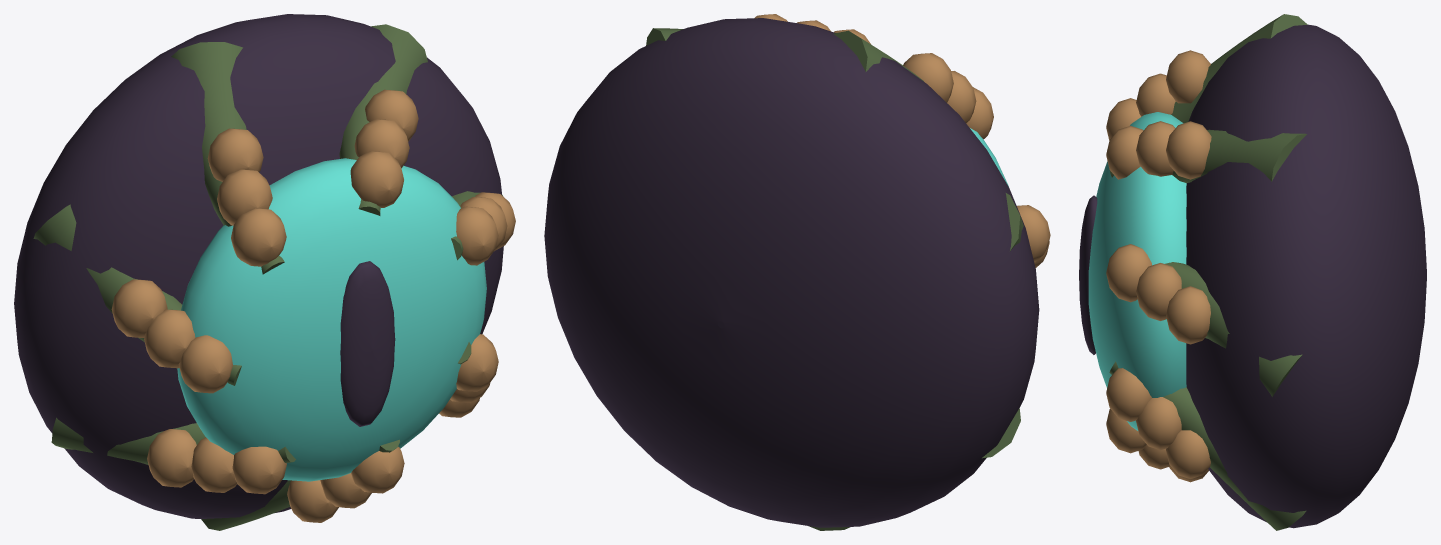
File: boss_heart.glb
3 views of the same model, side by side, from view 1: azimuth 30°, elevation 25°; view 2: azimuth 150°, elevation 25°; view 3: azimuth 270°, elevation 25° (orthographic). The views are drawn at different scales.
Parts seen in each view (by area): view 1: boss_heart; view 2: boss_heart; view 3: boss_heart.
Part boxes in pixels (x1,y1,x2,y2): boss_heart: (14,14,515,530); boss_heart: (544,14,1050,530); boss_heart: (1079,14,1426,530).
Bounding box in the file's own units: 1.92 × 1.9 × 1.28.
